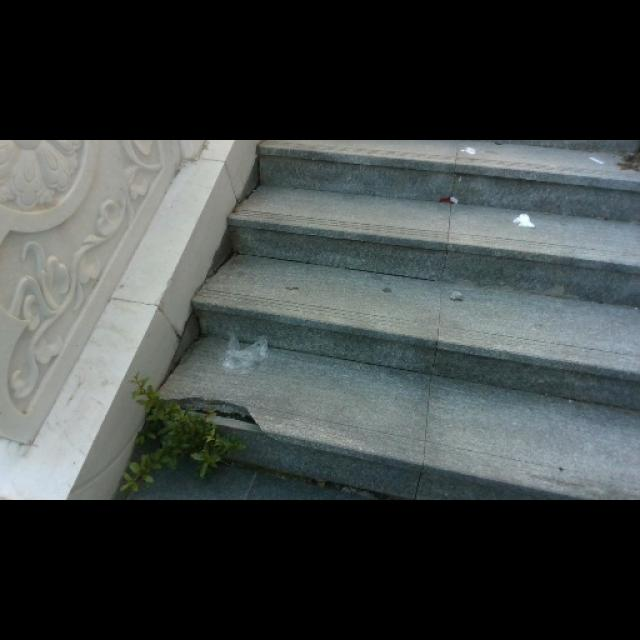Stairs: (132, 140, 638, 500)
